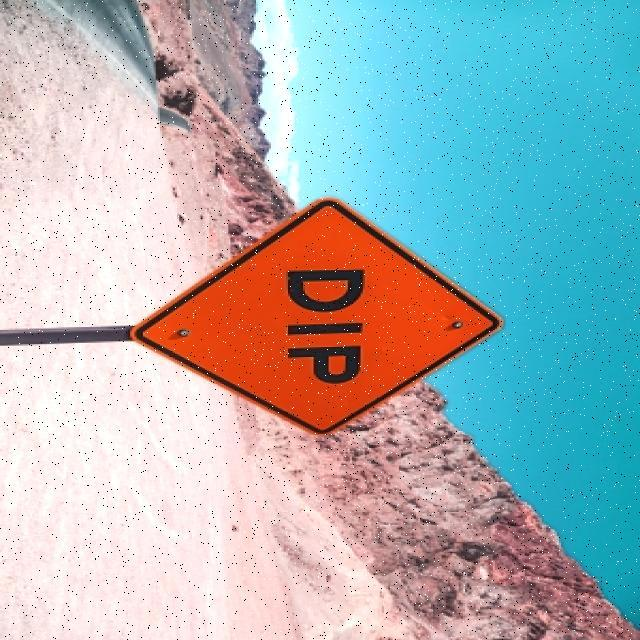Traffic sign: (132, 194, 507, 443)
